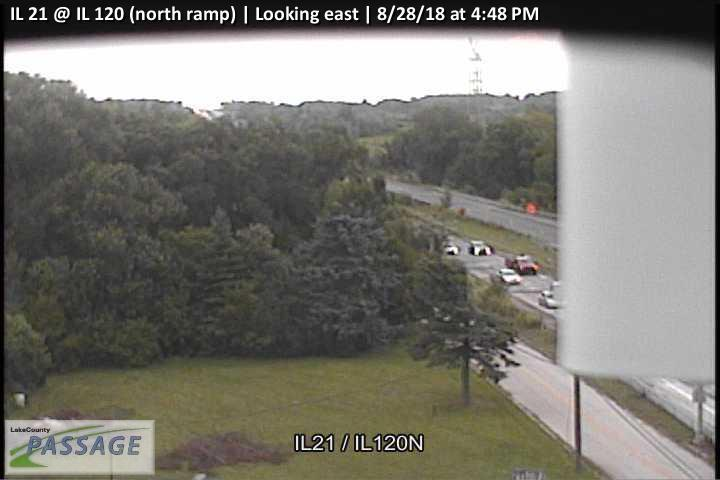Sedan: (496, 267, 521, 285), (538, 290, 558, 308)
Truck: (505, 253, 538, 275)
